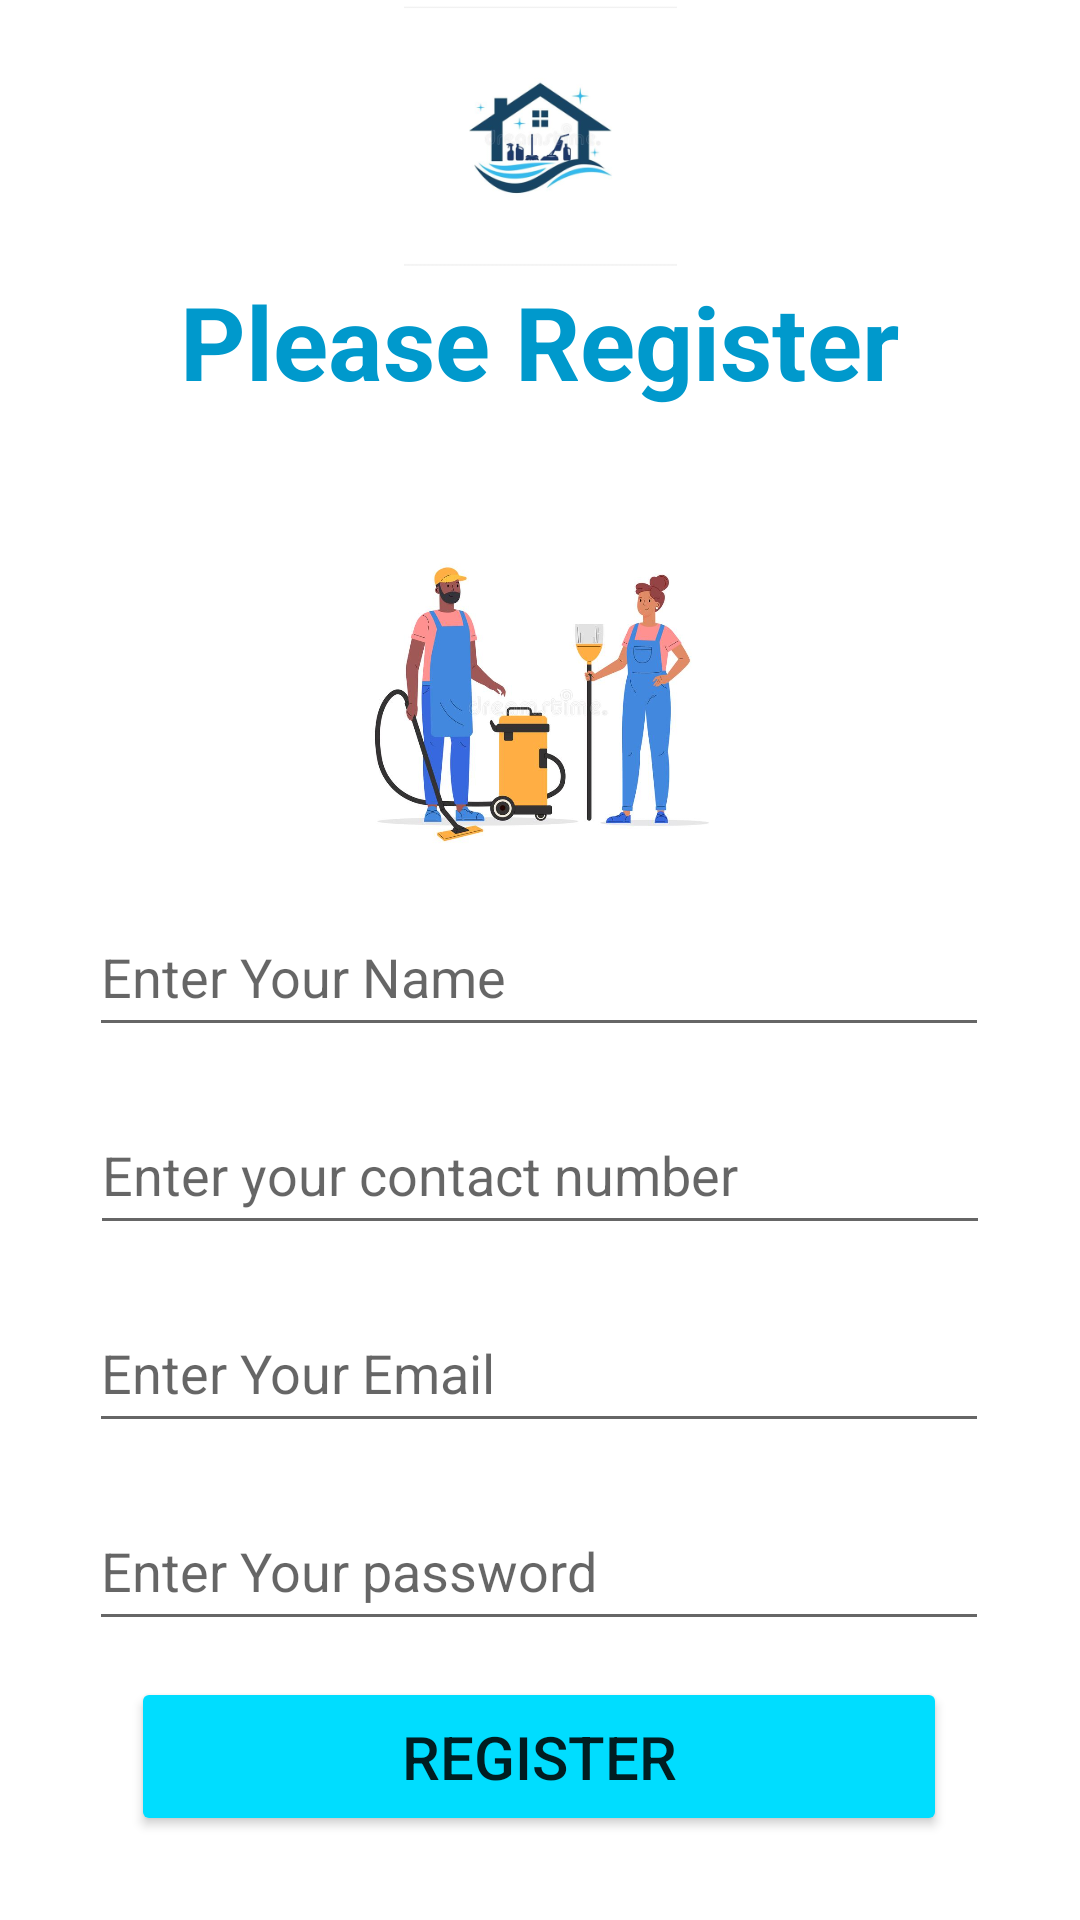

Named icons in this screenshot (1080 x 1920) and their bounding boxes, box=[x1, y1, x2, y2]:
cleaner pic: box=[375, 567, 707, 842]
